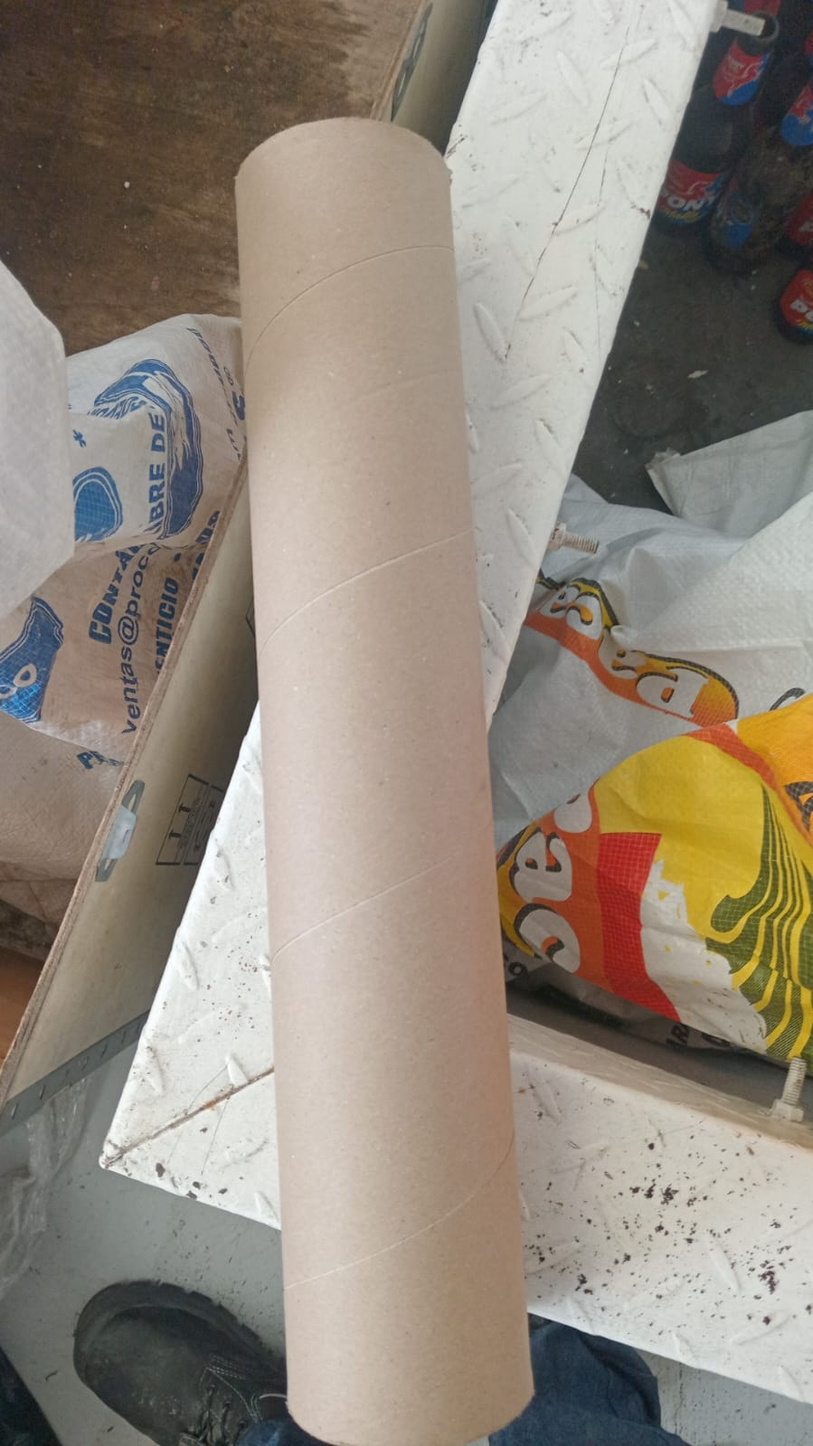Carton: (236, 117, 532, 1446)
